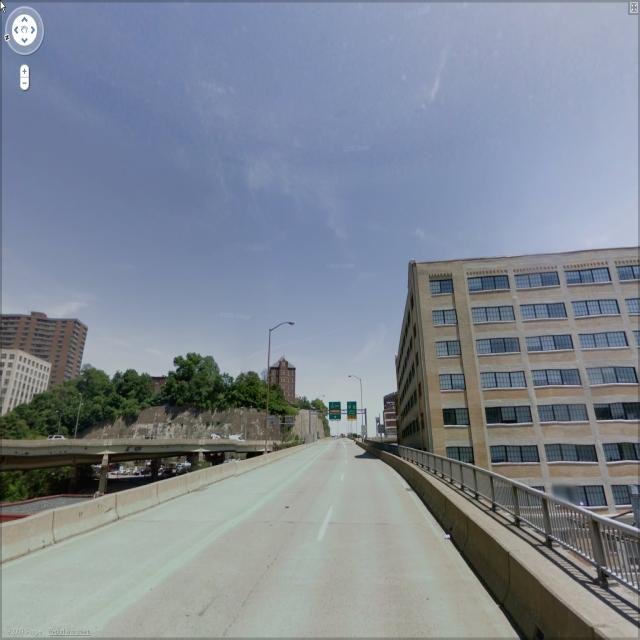b_1: (398, 244, 640, 506), (0, 303, 90, 383), (0, 348, 54, 408), (268, 354, 300, 404), (378, 389, 406, 446)
